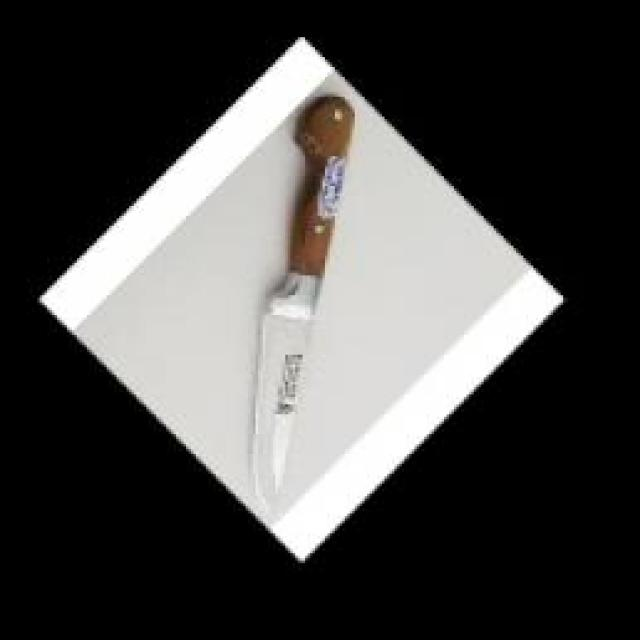knife: (248, 87, 357, 521)
